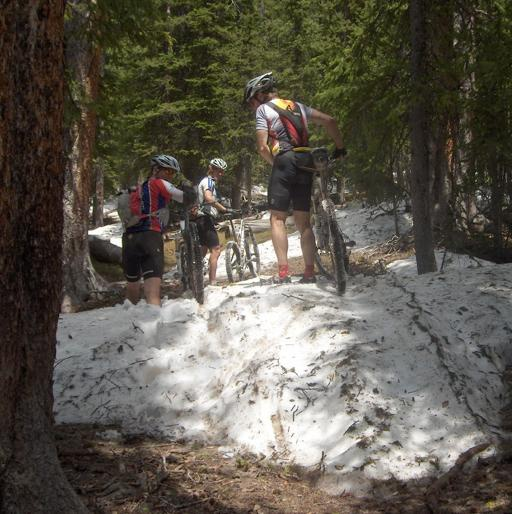non-vehicle: (294, 142, 361, 293), (152, 196, 227, 307), (210, 193, 266, 281)
